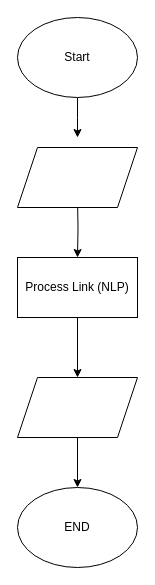
Image size: 155x585. Some labels were removed from this diagram. Each missing label, with the centre of its shape:
"Show Report" belongs at point 77,407.
"Take Link" belongs at point 77,177.
